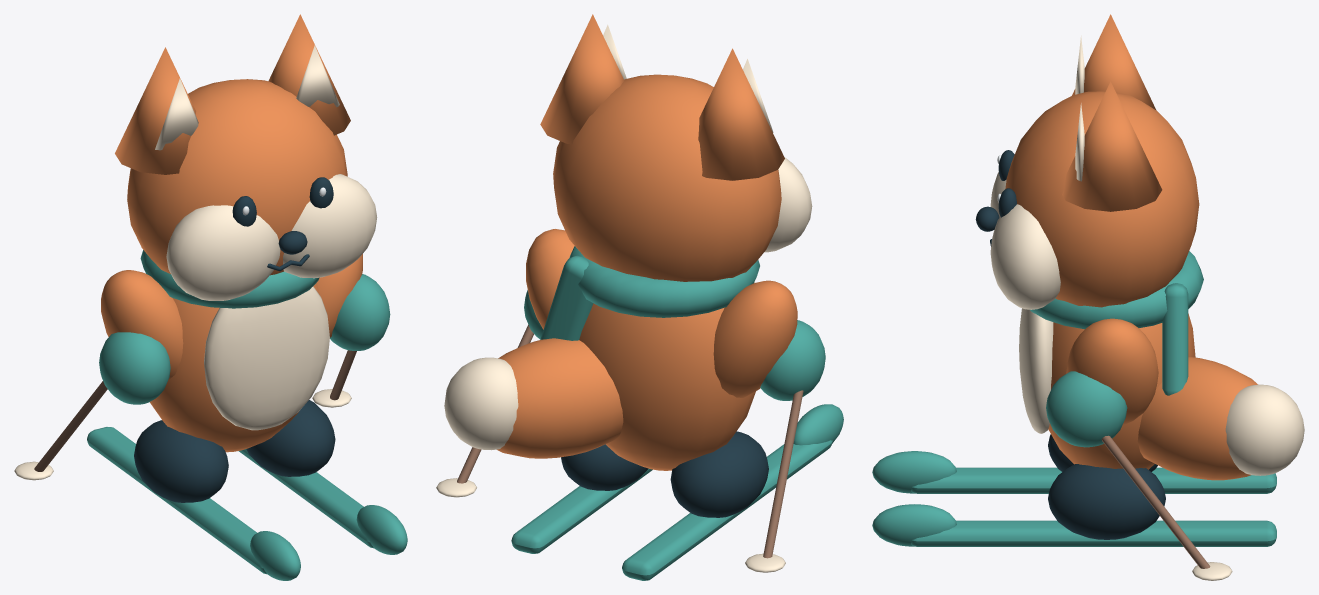
The model's file is fox.glb.
3 views of the same model, side by side, from view 1: azimuth 30°, elevation 25°; view 2: azimuth 150°, elevation 25°; view 3: azimuth 270°, elevation 25° (orthographic). The views are drawn at different scales.
Parts seen in each view (by area): view 1: Head.001, Body, Left ski, Right ski, Right pole; view 2: Body, Head.001, Left ski, Right ski, Right pole, Left pole; view 3: Head.001, Body, Right ski, Left ski, Right pole.
Boxes of the visible parts, box(x1,y1,x2,y2) form: Head.001: box(115, 14, 377, 300); Body: box(99, 250, 390, 452); Left ski: box(87, 420, 300, 580); Right ski: box(238, 400, 407, 554); Right pole: box(34, 350, 356, 471); Body: box(444, 229, 825, 470); Head.001: box(540, 14, 812, 281); Left ski: box(622, 404, 843, 580); Right ski: box(511, 444, 652, 553); Right pole: box(436, 324, 803, 558); Left pole: box(745, 553, 785, 572); Head.001: box(975, 14, 1199, 309); Body: box(1019, 251, 1304, 480); Right ski: box(872, 464, 1276, 546); Left ski: box(872, 434, 1276, 493); Right pole: box(1101, 435, 1232, 580).
Size of the model in its own units: 2.12 by 2.82 by 2.34.
